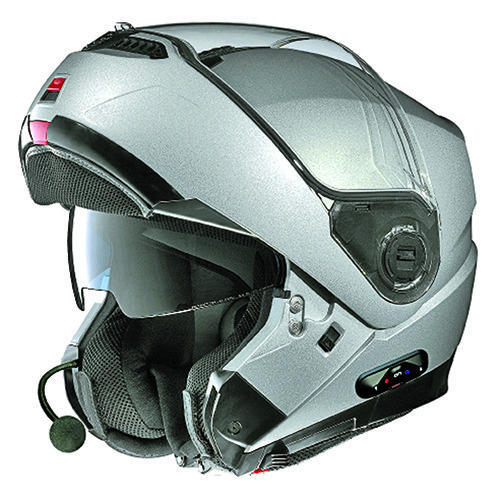with_helmet: (15, 10, 481, 479)
